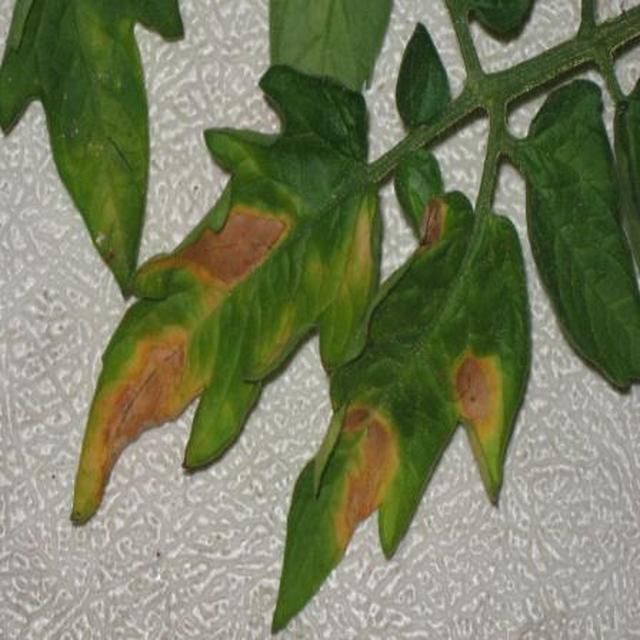Early Blight Leaf: (162, 335, 640, 640)
